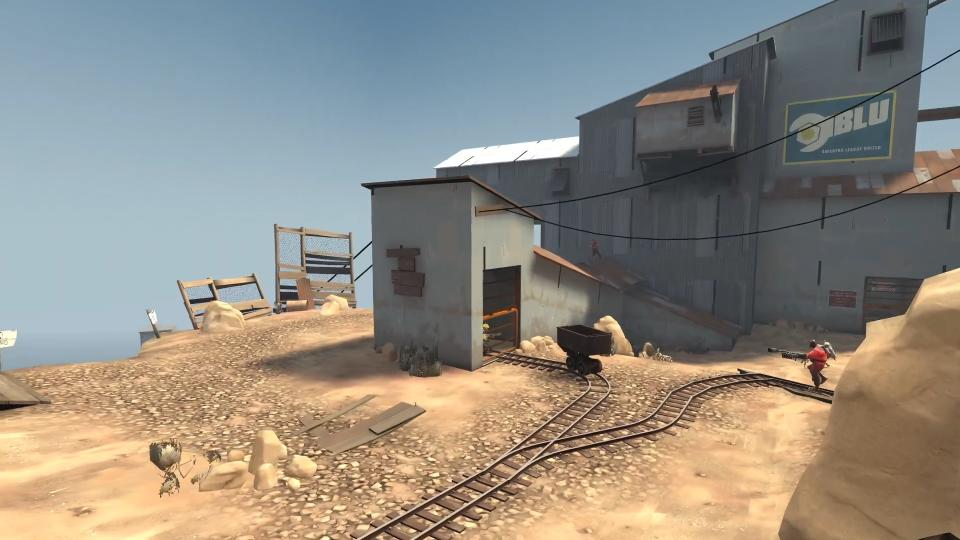Enemy: (770, 338, 843, 384)
